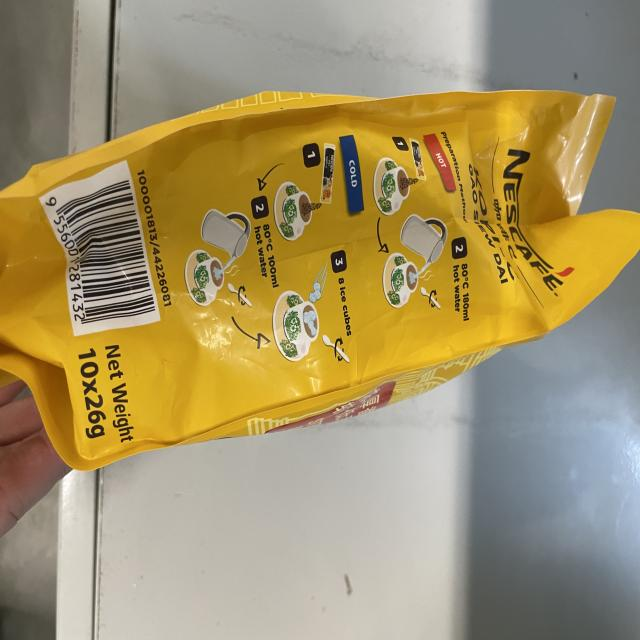object_name: (14, 90, 603, 438)
